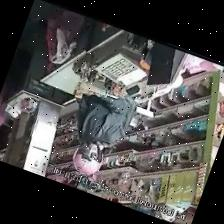person: (72, 94, 135, 173)
